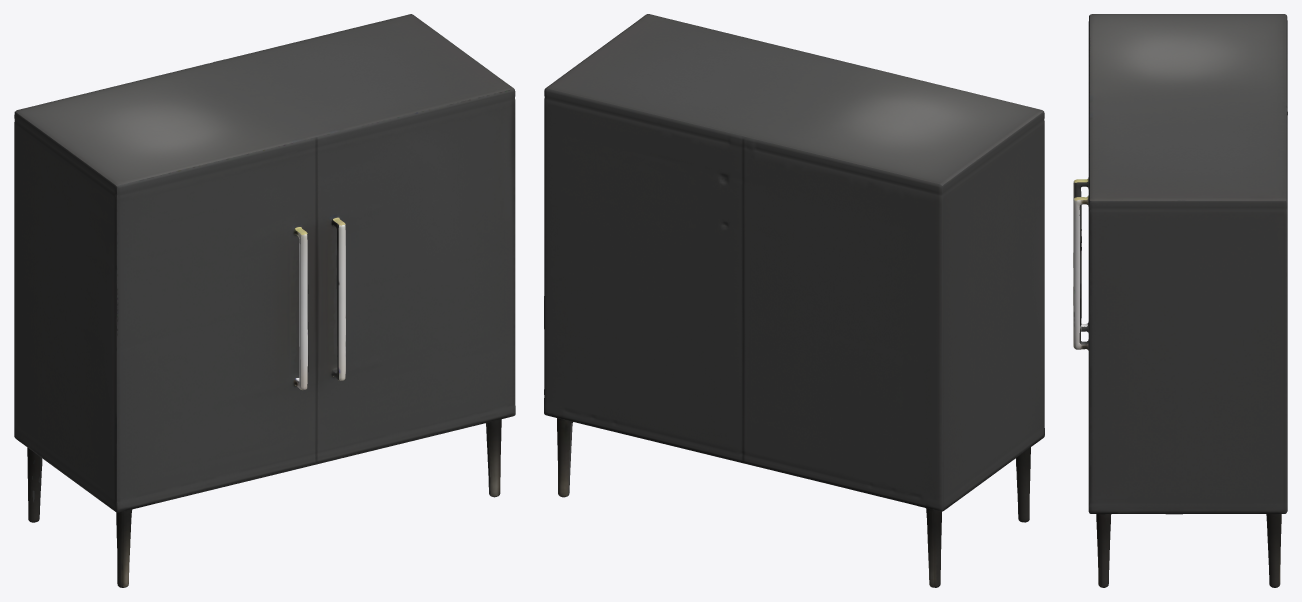
Rendered from cabinet__cabinet#3.glb.
3 renders of one model, left to right at view 1: azimuth 30°, elevation 25°; view 2: azimuth 150°, elevation 25°; view 3: azimuth 270°, elevation 25°, orthographic. The views are drawn at different scales.
Visible parts, largest first — view 1: tmpr0rl693l.ply; view 2: tmpr0rl693l.ply; view 3: tmpr0rl693l.ply.
Boxes of the visible parts, x1,y1,x2,y2 form: tmpr0rl693l.ply: (14, 14, 515, 587); tmpr0rl693l.ply: (544, 14, 1044, 587); tmpr0rl693l.ply: (1073, 14, 1287, 587).
Size of the model in its own units: 1.99 by 1.95 by 0.9642.
Materials: 1 (1 with a texture image).
